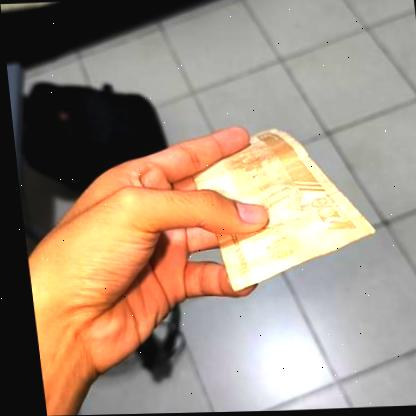twenty-back-vef: (166, 119, 377, 292)
